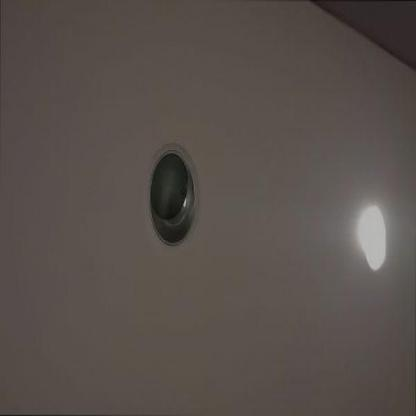light_off: (138, 109, 208, 279)
